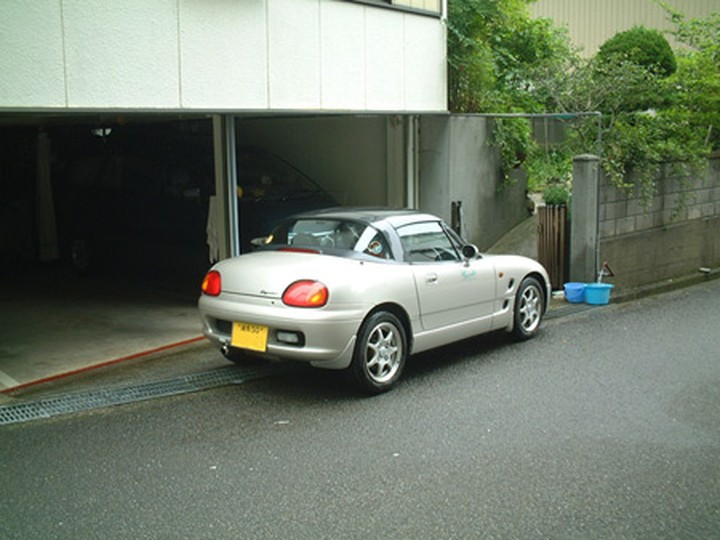car: (195, 202, 555, 394)
